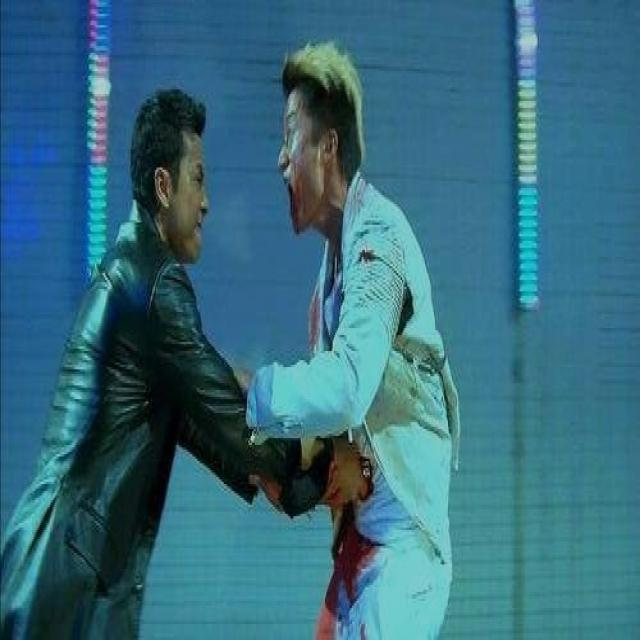fight: (22, 30, 470, 638)
